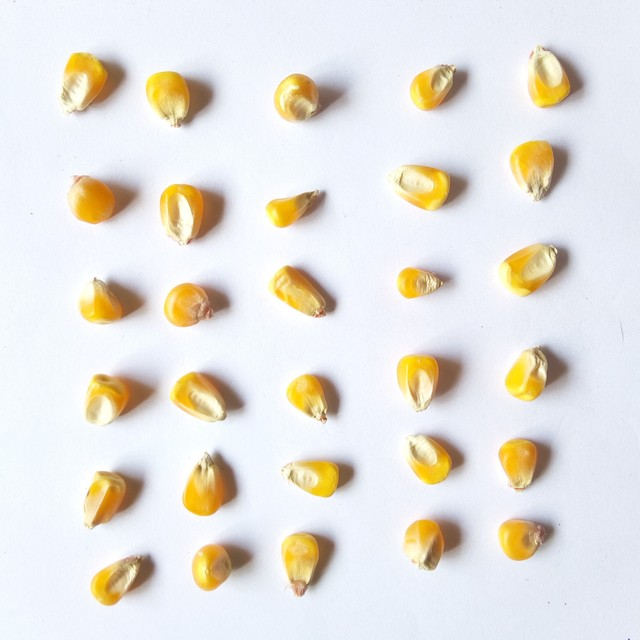maiz: (50, 46, 114, 124), (496, 235, 570, 299), (505, 133, 567, 209), (148, 178, 210, 251), (281, 530, 338, 607), (517, 42, 580, 111), (264, 263, 337, 322), (136, 65, 201, 130), (384, 159, 455, 214), (486, 435, 552, 494), (261, 180, 337, 231), (498, 341, 560, 403), (76, 368, 134, 433), (168, 366, 233, 424), (59, 169, 120, 230), (281, 365, 342, 426), (391, 347, 447, 413), (181, 450, 231, 523), (404, 58, 467, 115), (261, 69, 324, 125), (86, 550, 150, 605), (396, 430, 456, 487), (75, 468, 130, 530), (395, 517, 453, 575), (275, 457, 349, 501), (159, 277, 217, 333), (74, 271, 127, 331), (493, 514, 555, 565), (189, 542, 236, 597), (390, 266, 450, 300)
